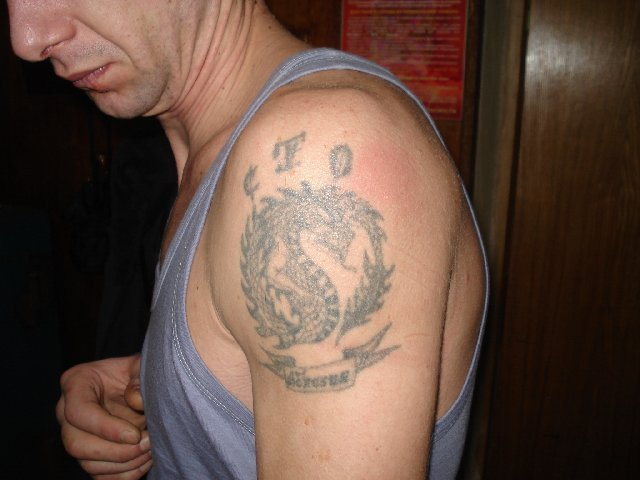tatu6_drakon: (224, 168, 421, 358)
